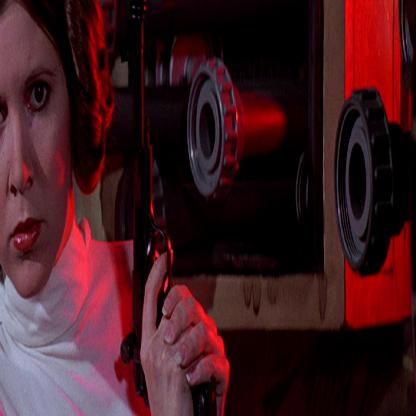gun: (96, 62, 237, 415)
